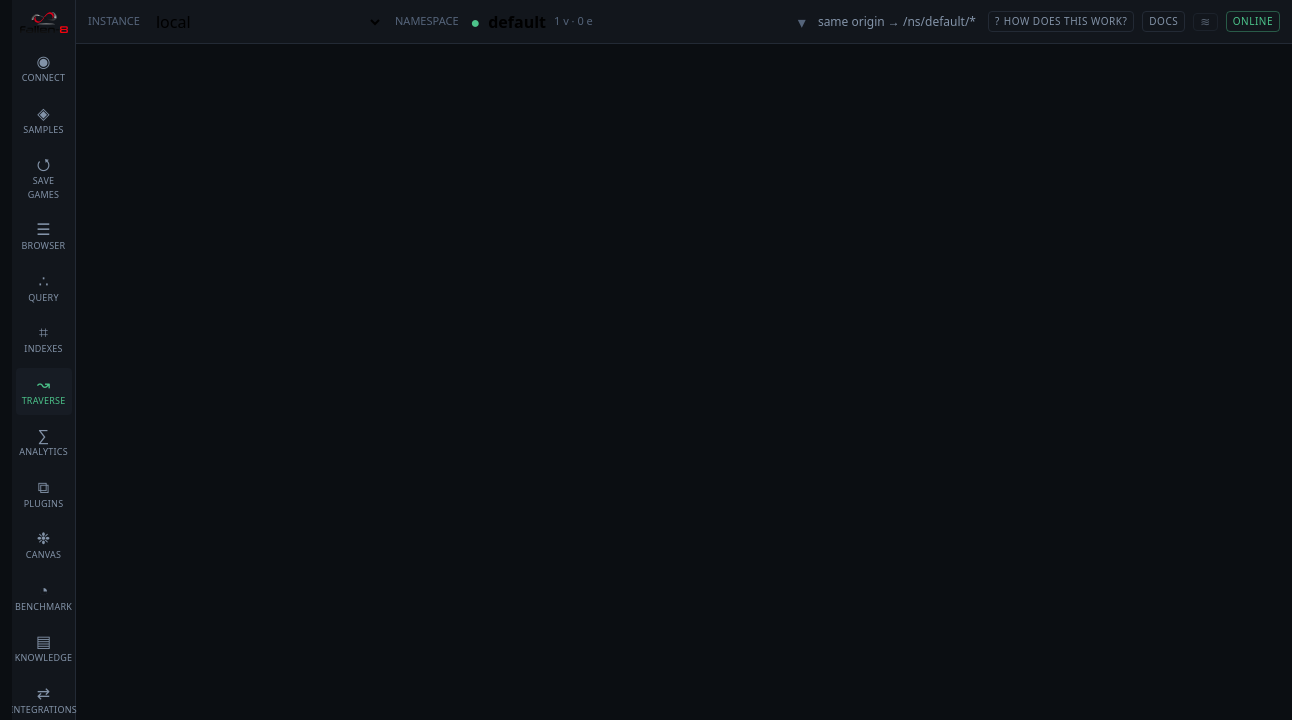
Test: switching namespace keeps the screen › swaps only the namespace in the URL on a scoped route
The width and height of the screenshot is (1292, 720).
Click the button with test id "namespace-switcher".
click(517, 22)  # box 470,10 -> 806,34
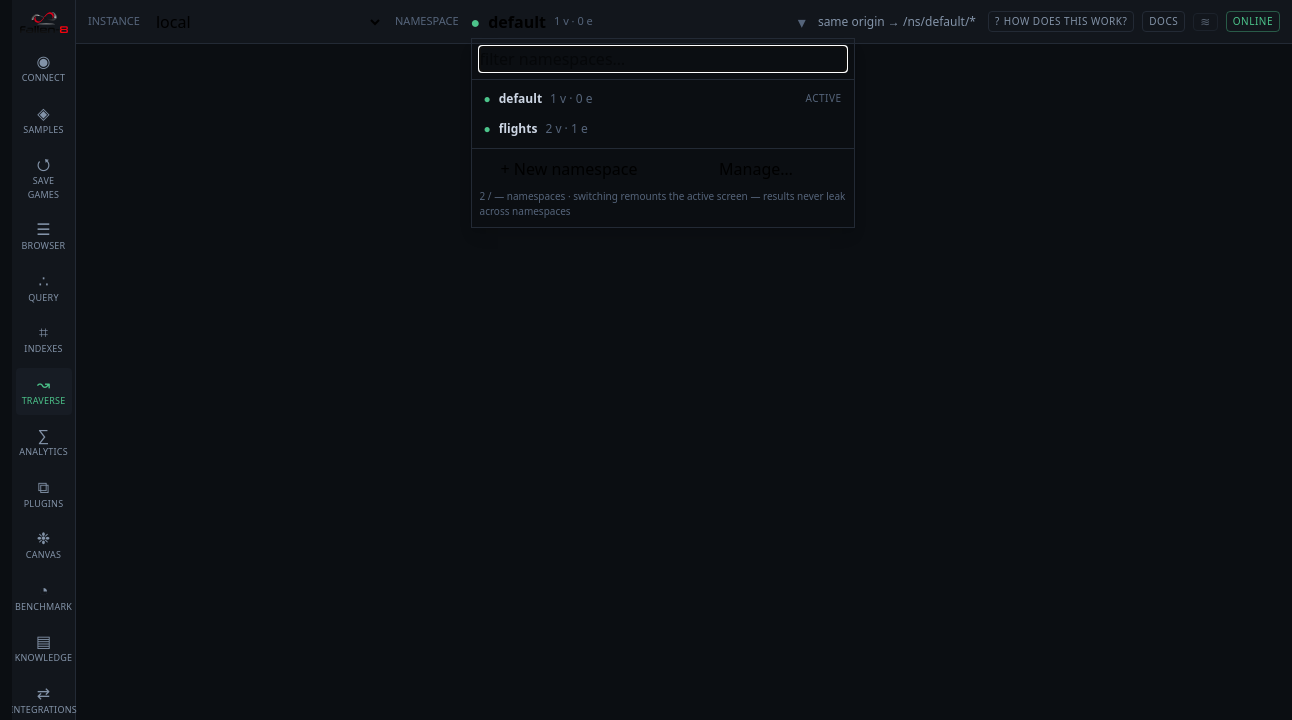
Click the option with test id "namespace-option-flights".
click(518, 128)  # box 472,114 -> 854,144
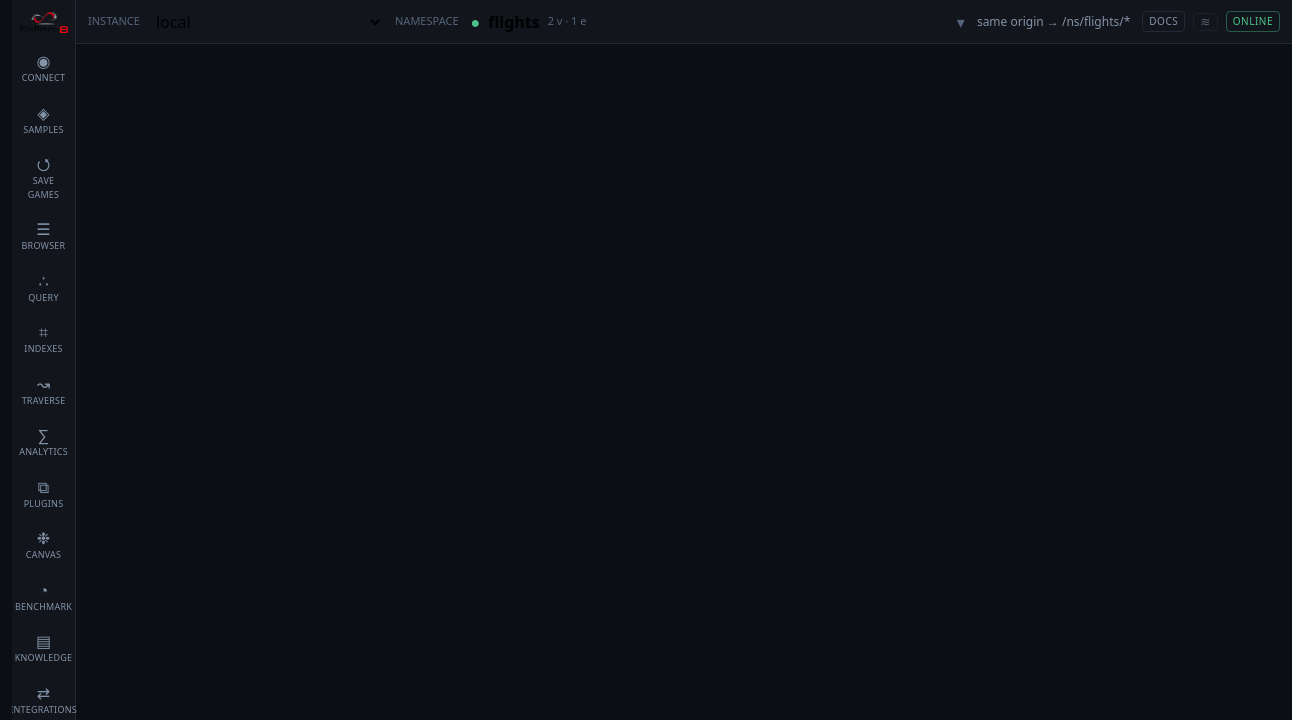
expect the text "flights" is shown: met, box 488,10 -> 540,34
